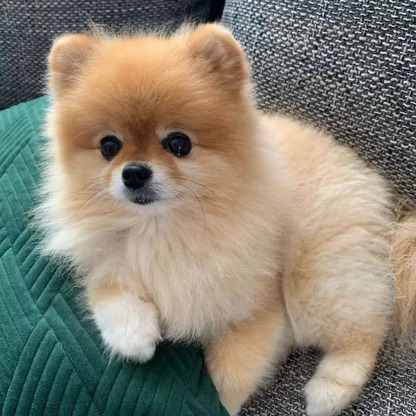Pomeranian: (36, 32, 400, 399)
